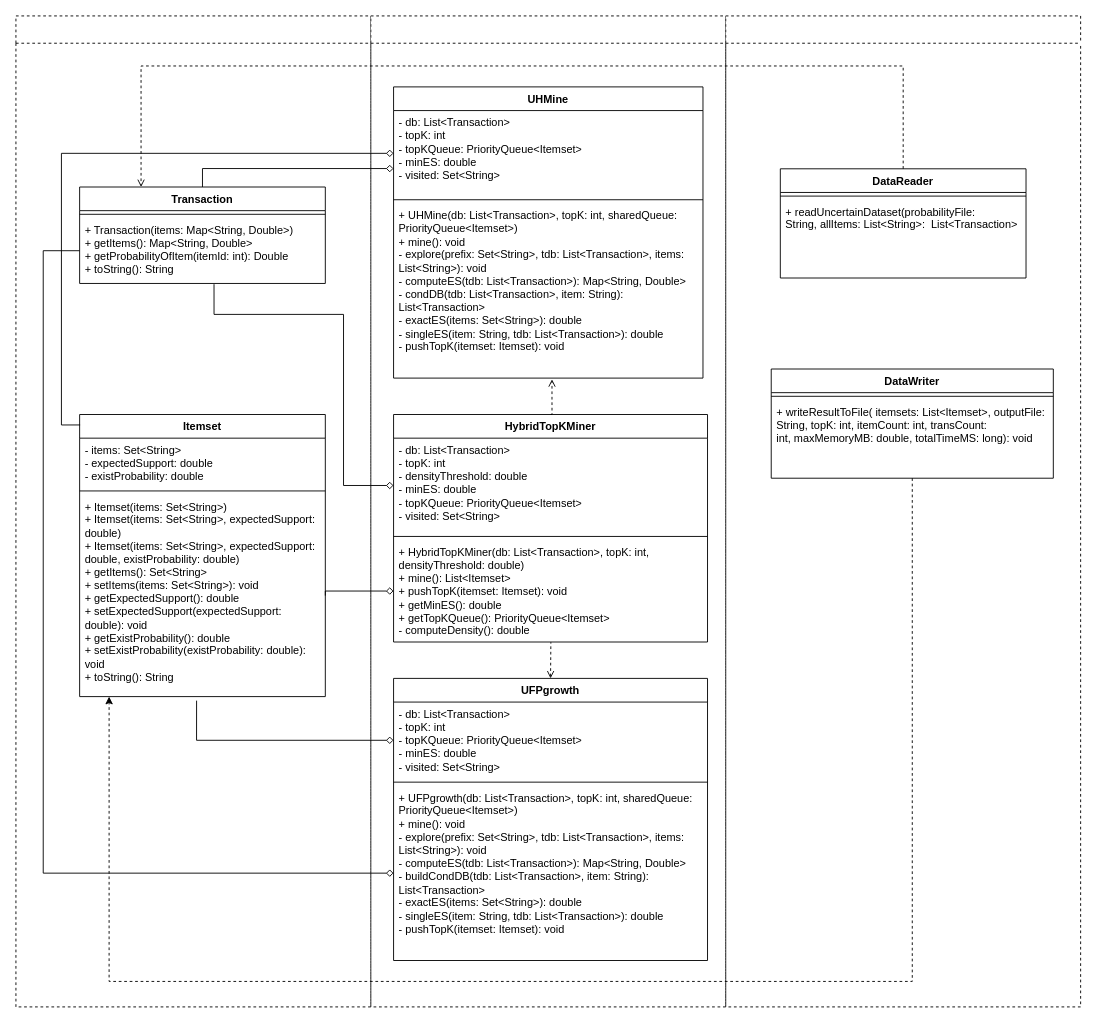
Image size: 1097x1023. Some labels were removed from this diagram. The shapes that lost their labels are listed below. From the top down, each one's box as (x1, y1, x2, y2) in pixels, then its label:
(15, 15, 371, 1007): Data Transfer Object (DTO)
(370, 15, 726, 1007): Business Logic Layer (BLL)
(725, 15, 1081, 1007): Data Access Layer (DAL)
